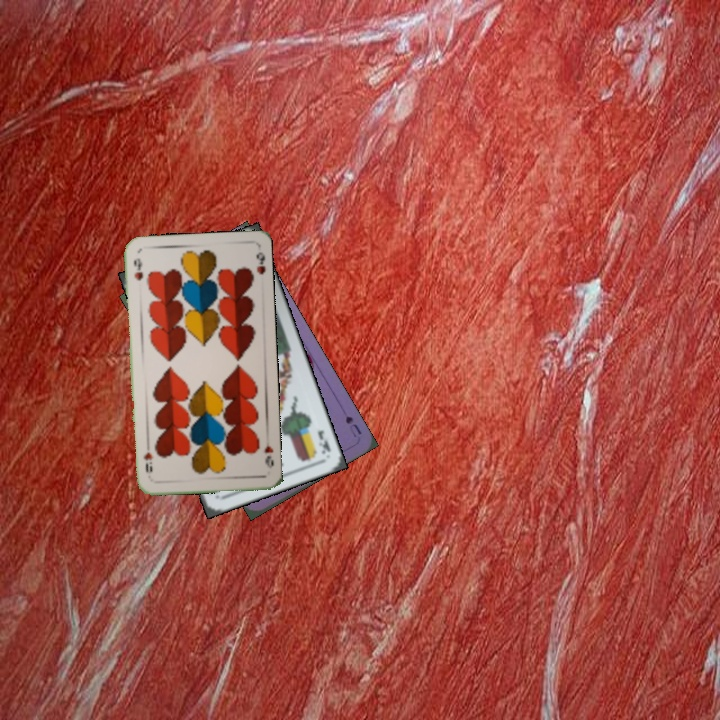EK: (314, 426, 333, 457)
H9: (260, 442, 276, 471), (130, 254, 145, 283)
SU: (341, 412, 364, 439)
